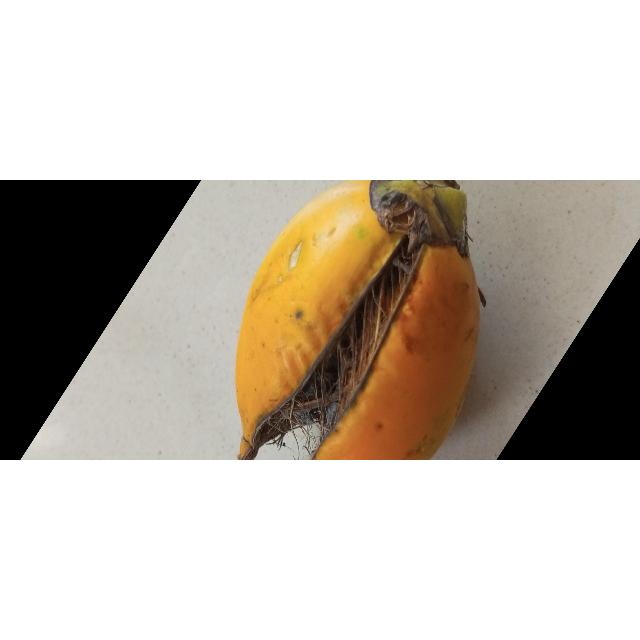damaged: (233, 180, 480, 461)
